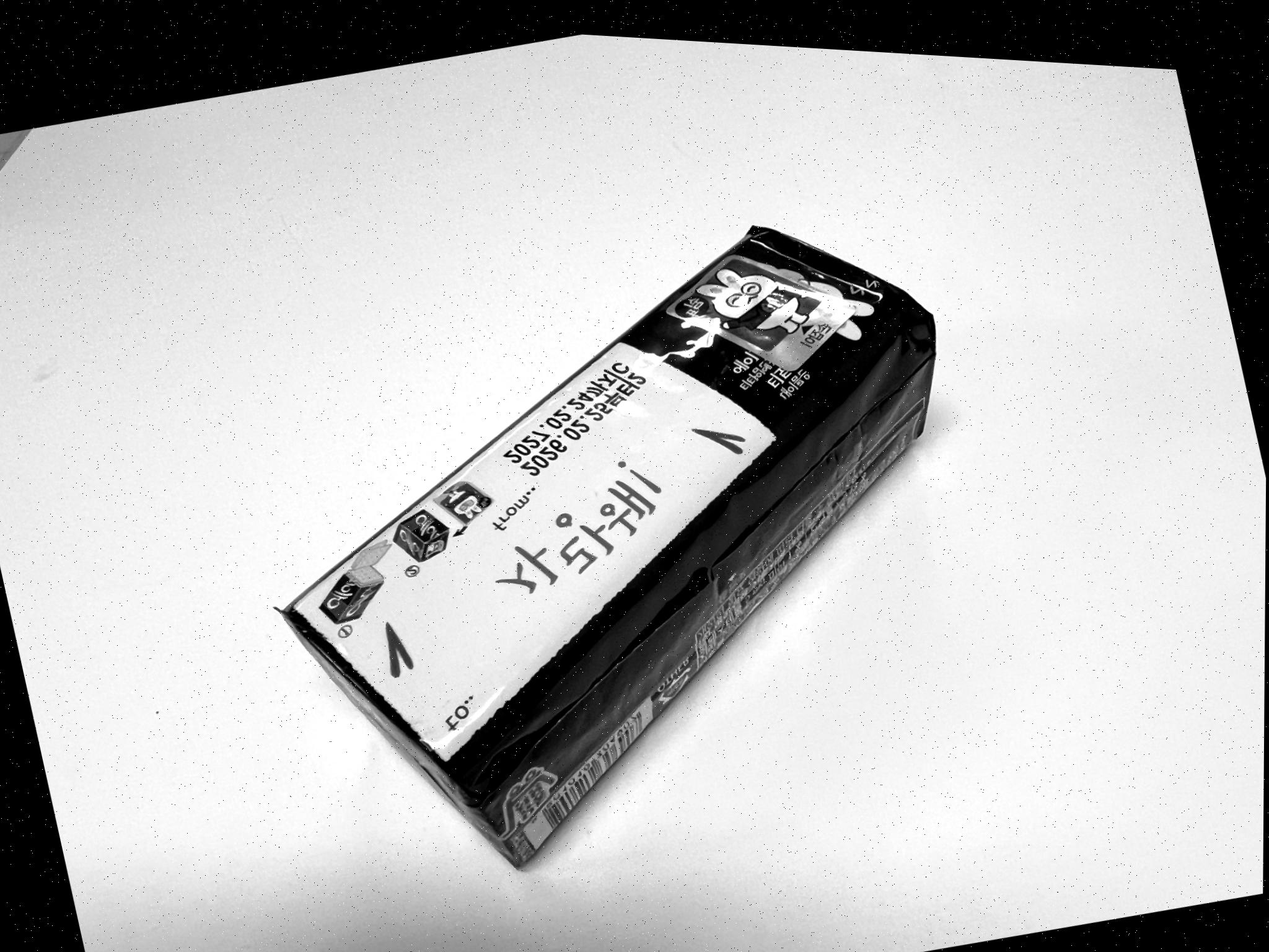cracker_ace: (278, 223, 940, 870)
